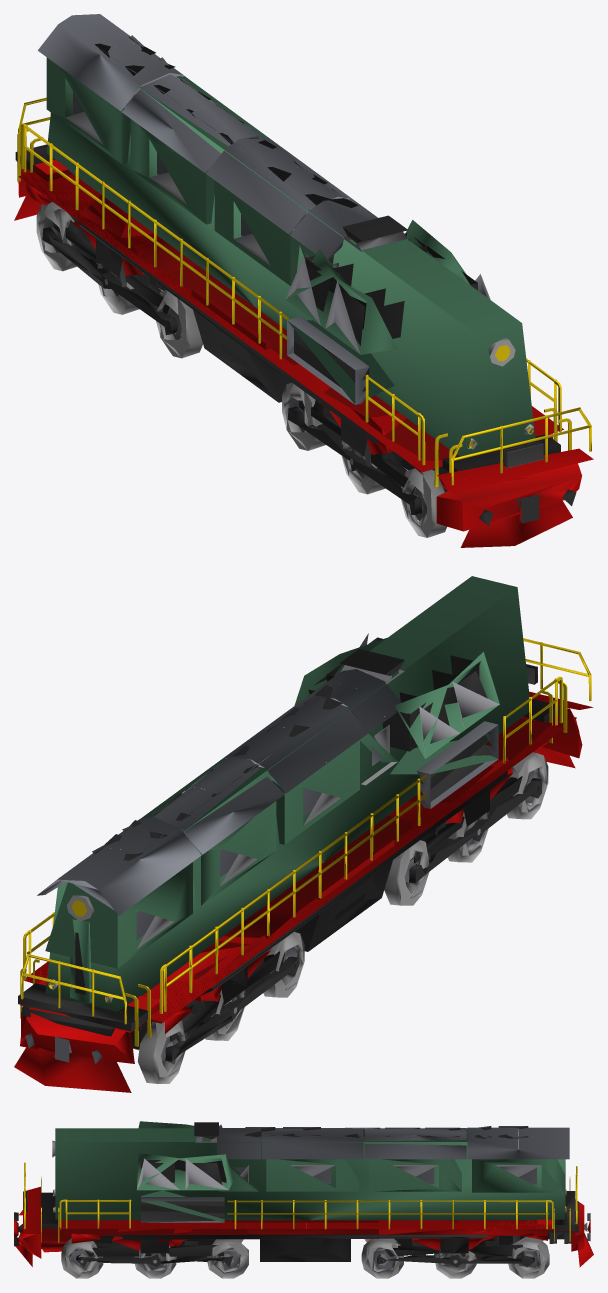
Rendered from m_loco.glb.
3 renders of one model, top to bottom at view 1: azimuth 30°, elevation 25°; view 2: azimuth 150°, elevation 25°; view 3: azimuth 270°, elevation 25°, orthographic. The views are drawn at different scales.
Visible parts, largest first — view 1: body|custom8Clone, body|darkClone, body|custom9Clone, body|custom10Clone, body|metalOrangeClone, body|custom11Clone, body|steelClone; view 2: body|custom8Clone, body|darkClone, body|custom9Clone, body|custom10Clone, body|metalOrangeClone, body|custom11Clone, body|steelClone; view 3: body|custom8Clone, body|custom10Clone, body|darkClone, body|custom9Clone, body|custom11Clone, body|metalOrangeClone, body|steelClone.
Part boxes in pixels (x1,y1,x2,y2): body|custom8Clone: (46, 57, 535, 456); body|darkClone: (38, 14, 543, 520); body|custom9Clone: (14, 159, 593, 547); body|custom10Clone: (15, 36, 576, 526); body|metalOrangeClone: (17, 97, 591, 487); body|custom11Clone: (36, 202, 533, 537); body|steelClone: (46, 111, 490, 464); body|custom8Clone: (45, 576, 529, 1011); body|darkClone: (25, 664, 540, 1064); body|custom9Clone: (14, 691, 593, 1092); body|custom10Clone: (18, 637, 576, 1061); body|metalOrangeClone: (20, 638, 591, 1046); body|custom11Clone: (48, 752, 548, 1083); body|steelClone: (137, 633, 499, 1013); body|custom8Clone: (55, 1121, 565, 1222); body|custom10Clone: (14, 1122, 578, 1267); body|darkClone: (23, 1126, 590, 1270); body|custom9Clone: (14, 1186, 593, 1267); body|custom11Clone: (52, 1140, 566, 1278); body|metalOrangeClone: (24, 1162, 577, 1242); body|steelClone: (81, 1124, 541, 1263).
Size of the model in its own units: 2.92 by 4.16 by 16.33.
